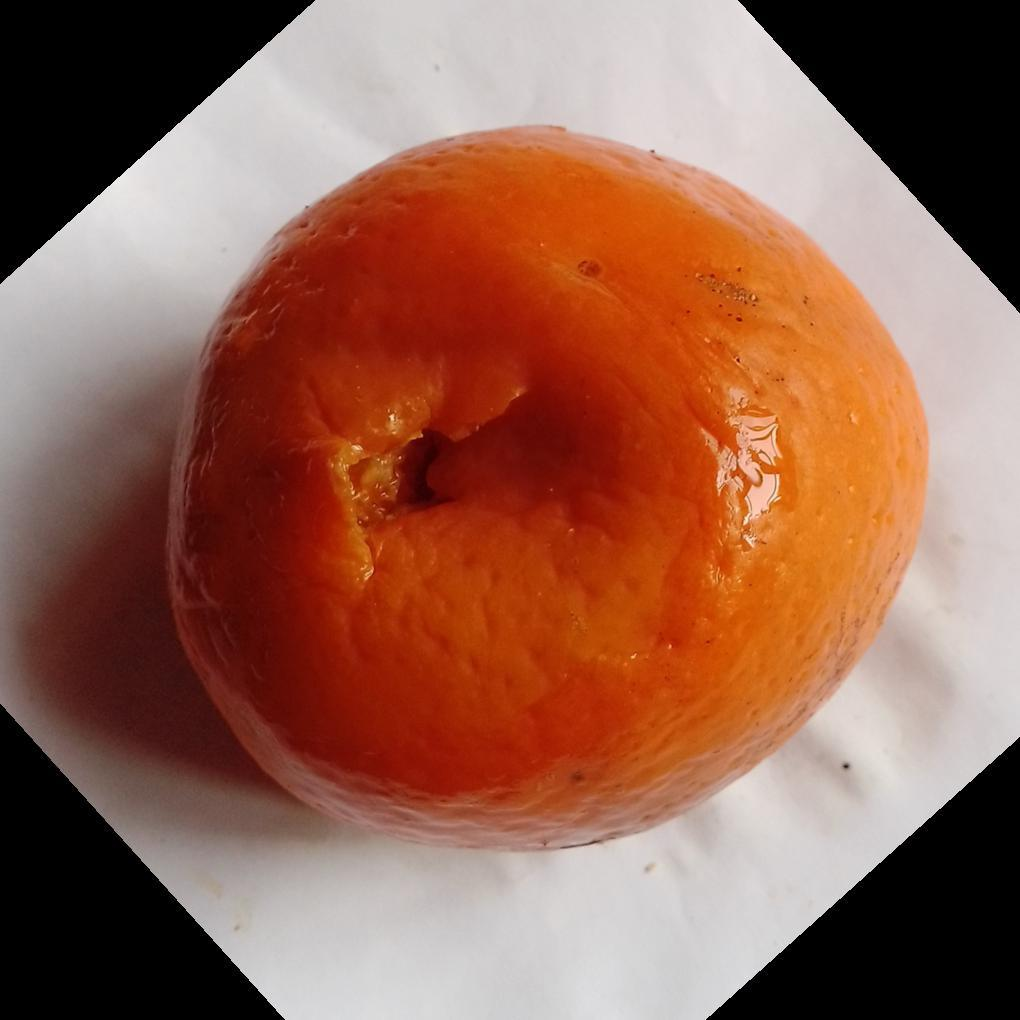FreshOrange: (162, 125, 931, 857)
